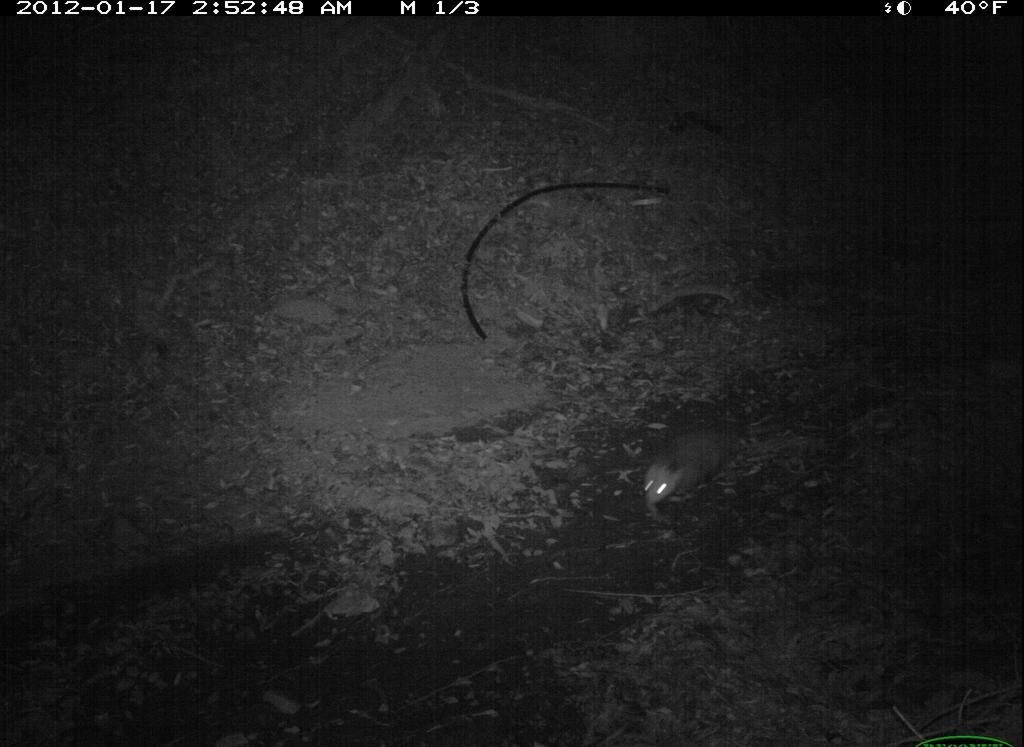opossum: (612, 402, 763, 533)
